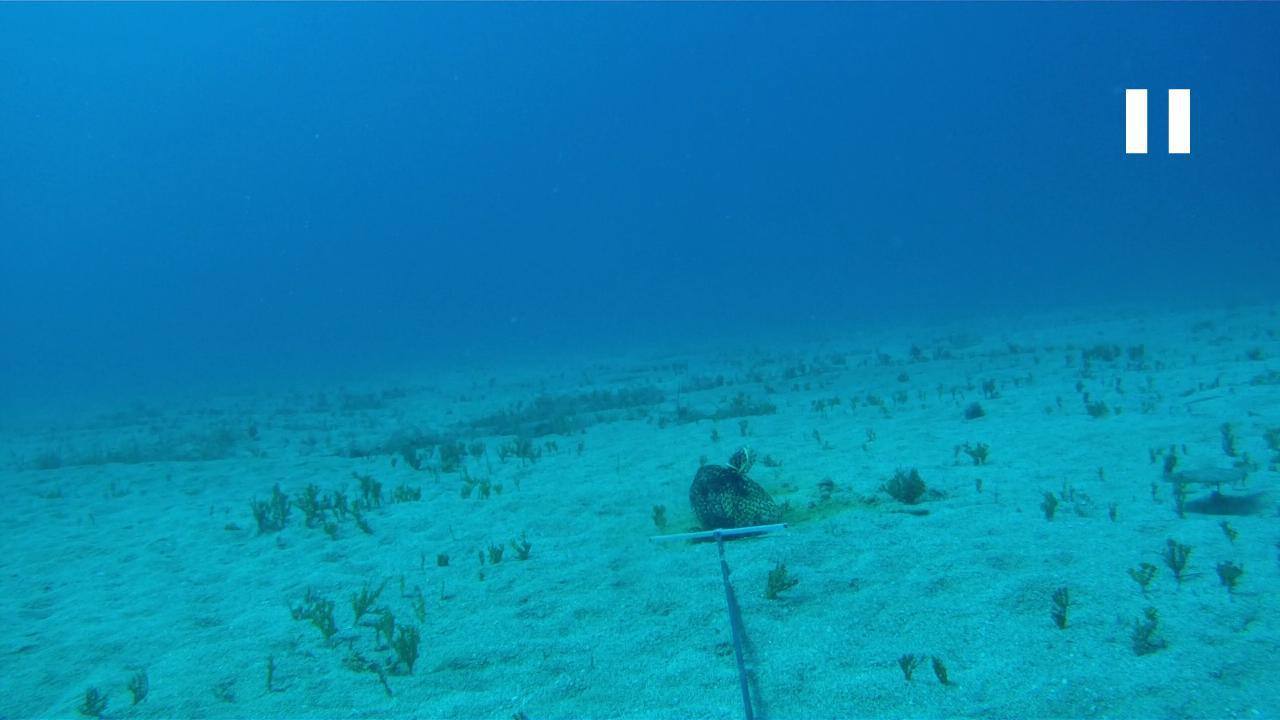bothus: (1160, 455, 1252, 490)
